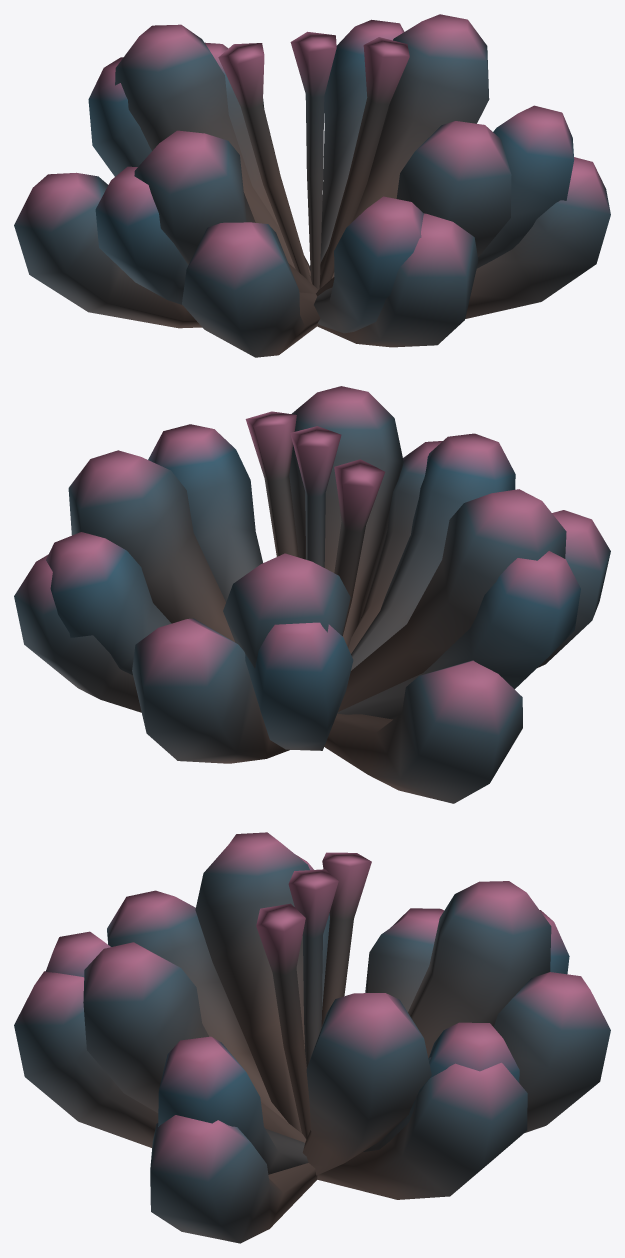
The model's file is plants-cacti-succulents-baby-toes_v7.glb.
3 views of the same model, one above another, from view 1: azimuth 30°, elevation 25°; view 2: azimuth 150°, elevation 25°; view 3: azimuth 270°, elevation 25° (orthographic). The views are drawn at different scales.
Visible parts, largest first — view 1: Baby Toes_v7; view 2: Baby Toes_v7; view 3: Baby Toes_v7.
Part boxes in pixels (x1,y1,x2,y2): Baby Toes_v7: (14, 14, 610, 357); Baby Toes_v7: (14, 386, 610, 803); Baby Toes_v7: (14, 832, 610, 1243).
Size of the model in its own units: 0.1461 by 0.0824 by 0.15.
